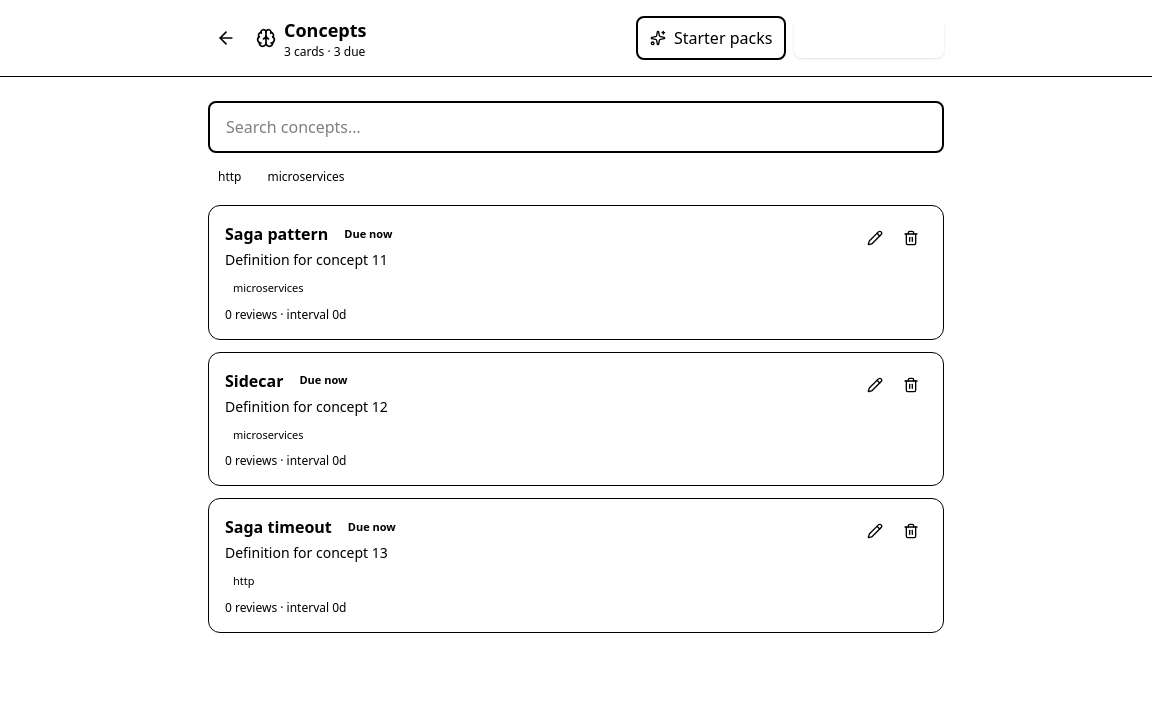
ConceptsPage › combines search and tag filter with AND
Click the button "microservices" at point(306, 177), box [258, 165, 354, 189]
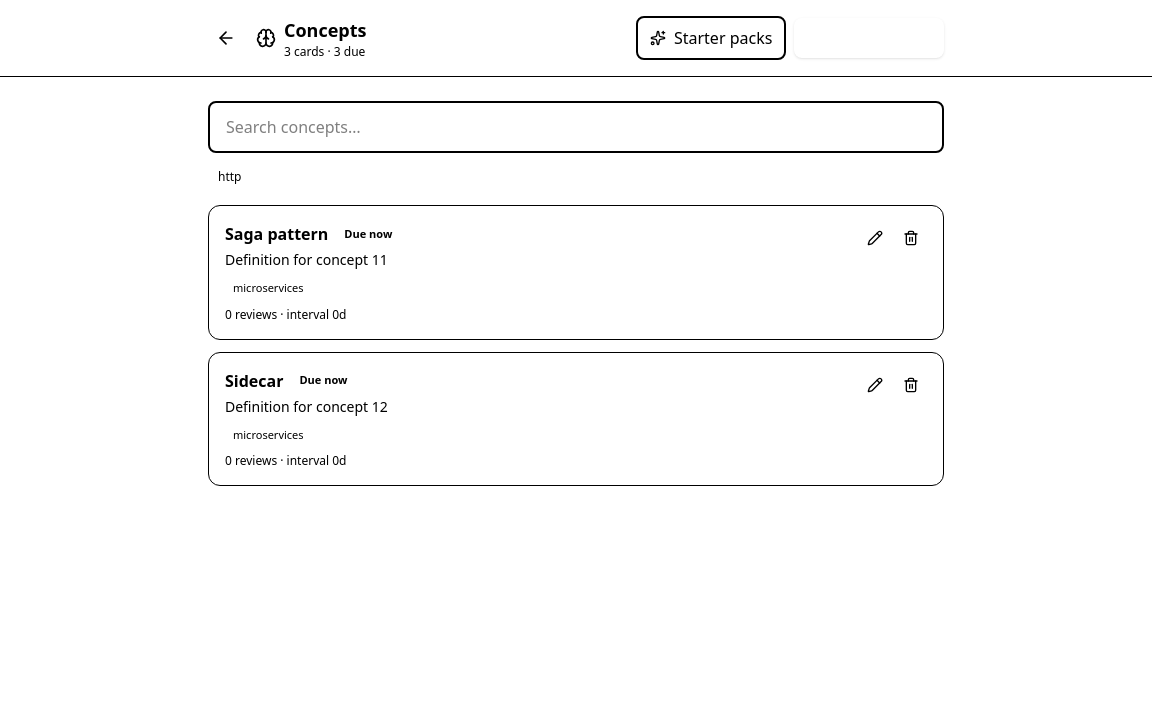
Type "saga" into the field labelled "Search concepts" at point(576, 127), box [208, 101, 944, 153]
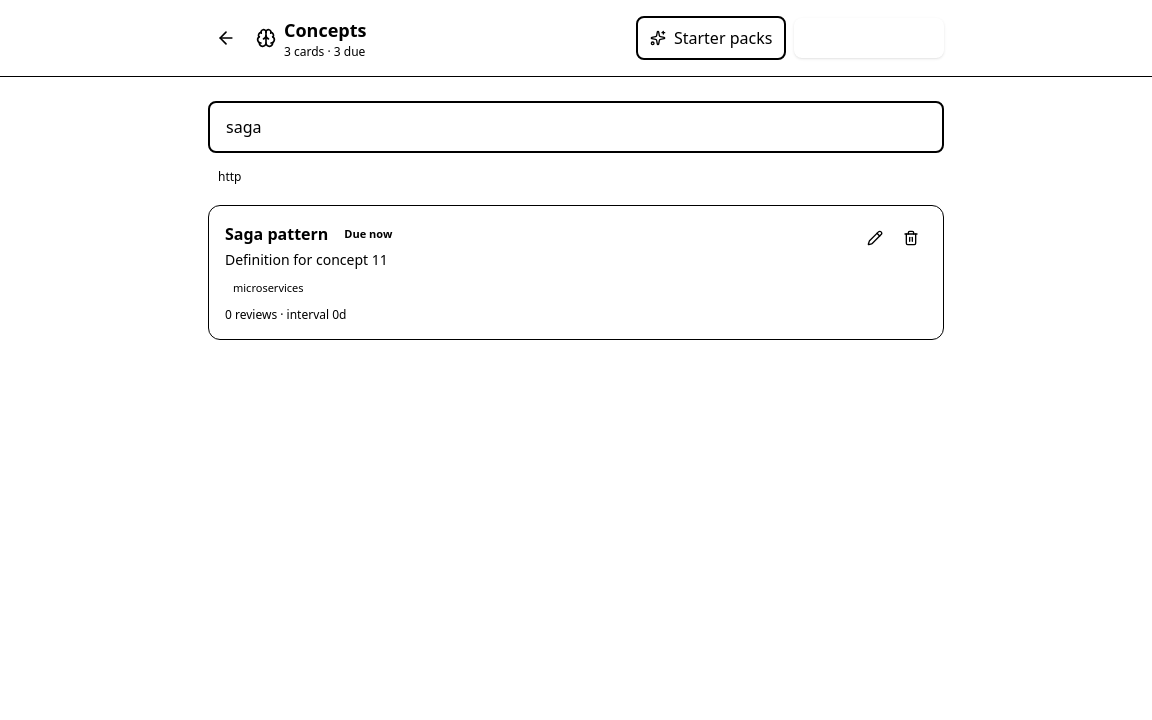
Expected: the heading "Saga pattern" is shown, [225, 222, 328, 246]
Result: the heading "Sidecar" is gone
